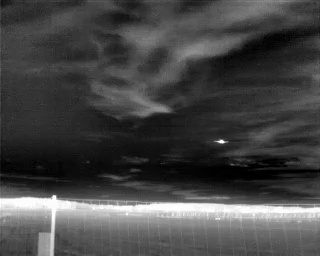AIRPLANE: (212, 136, 230, 147)
